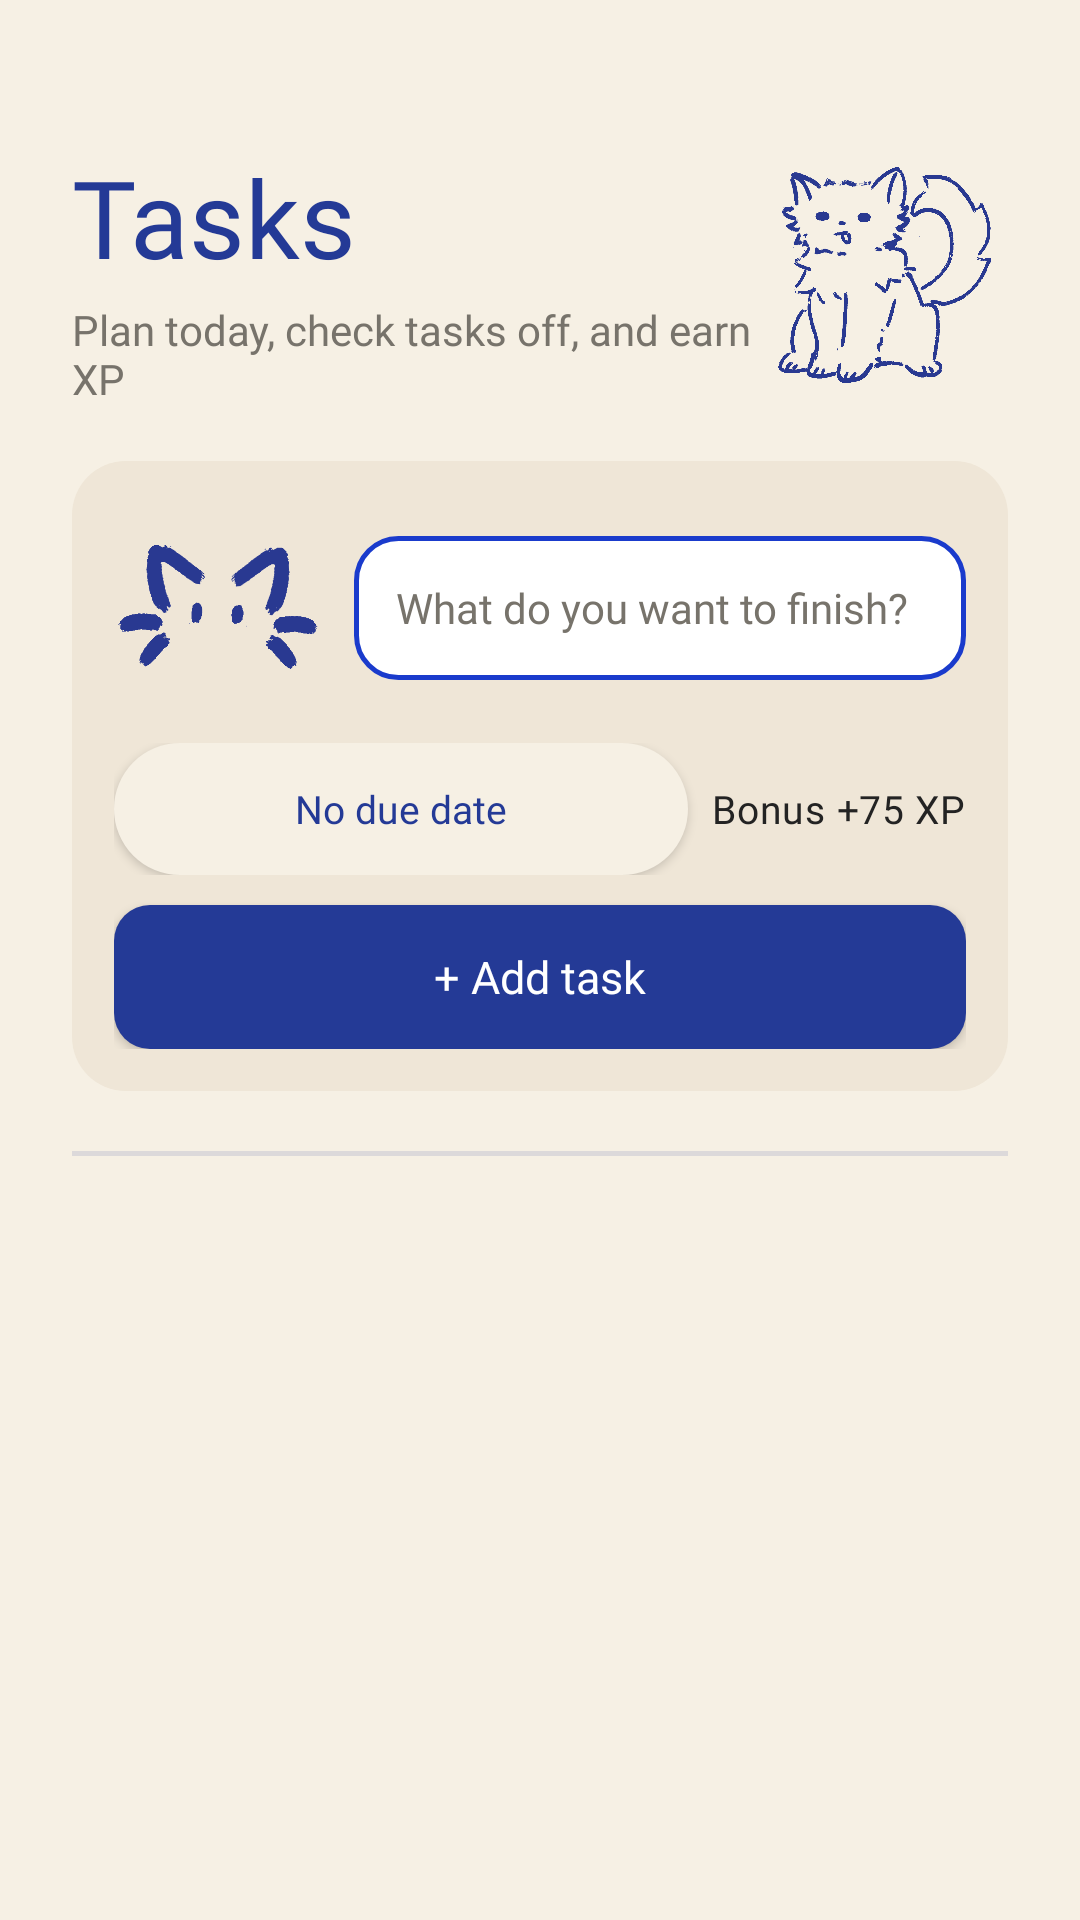

Locate icon controls on the screen. Image size 1080×1920, boxes as (x1, y1, x2, y2).
silly cat fit: (778, 167, 991, 383)
